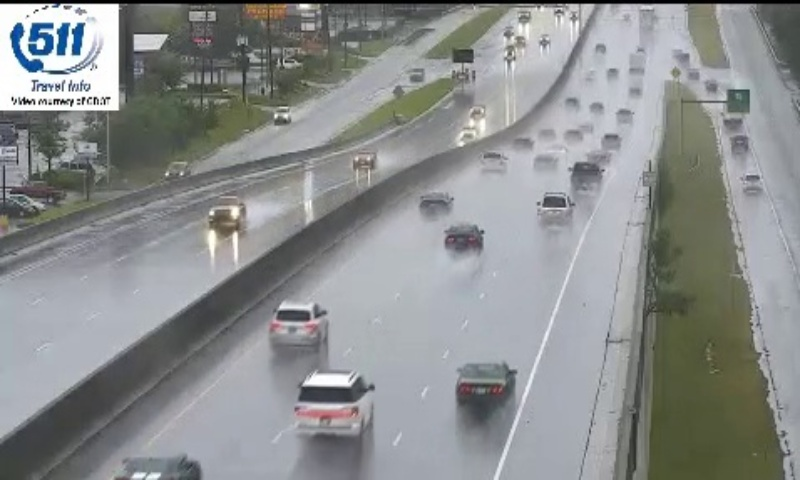car: (296, 371, 373, 436), (269, 300, 328, 350), (456, 362, 515, 410), (537, 192, 572, 224), (444, 224, 483, 251)
